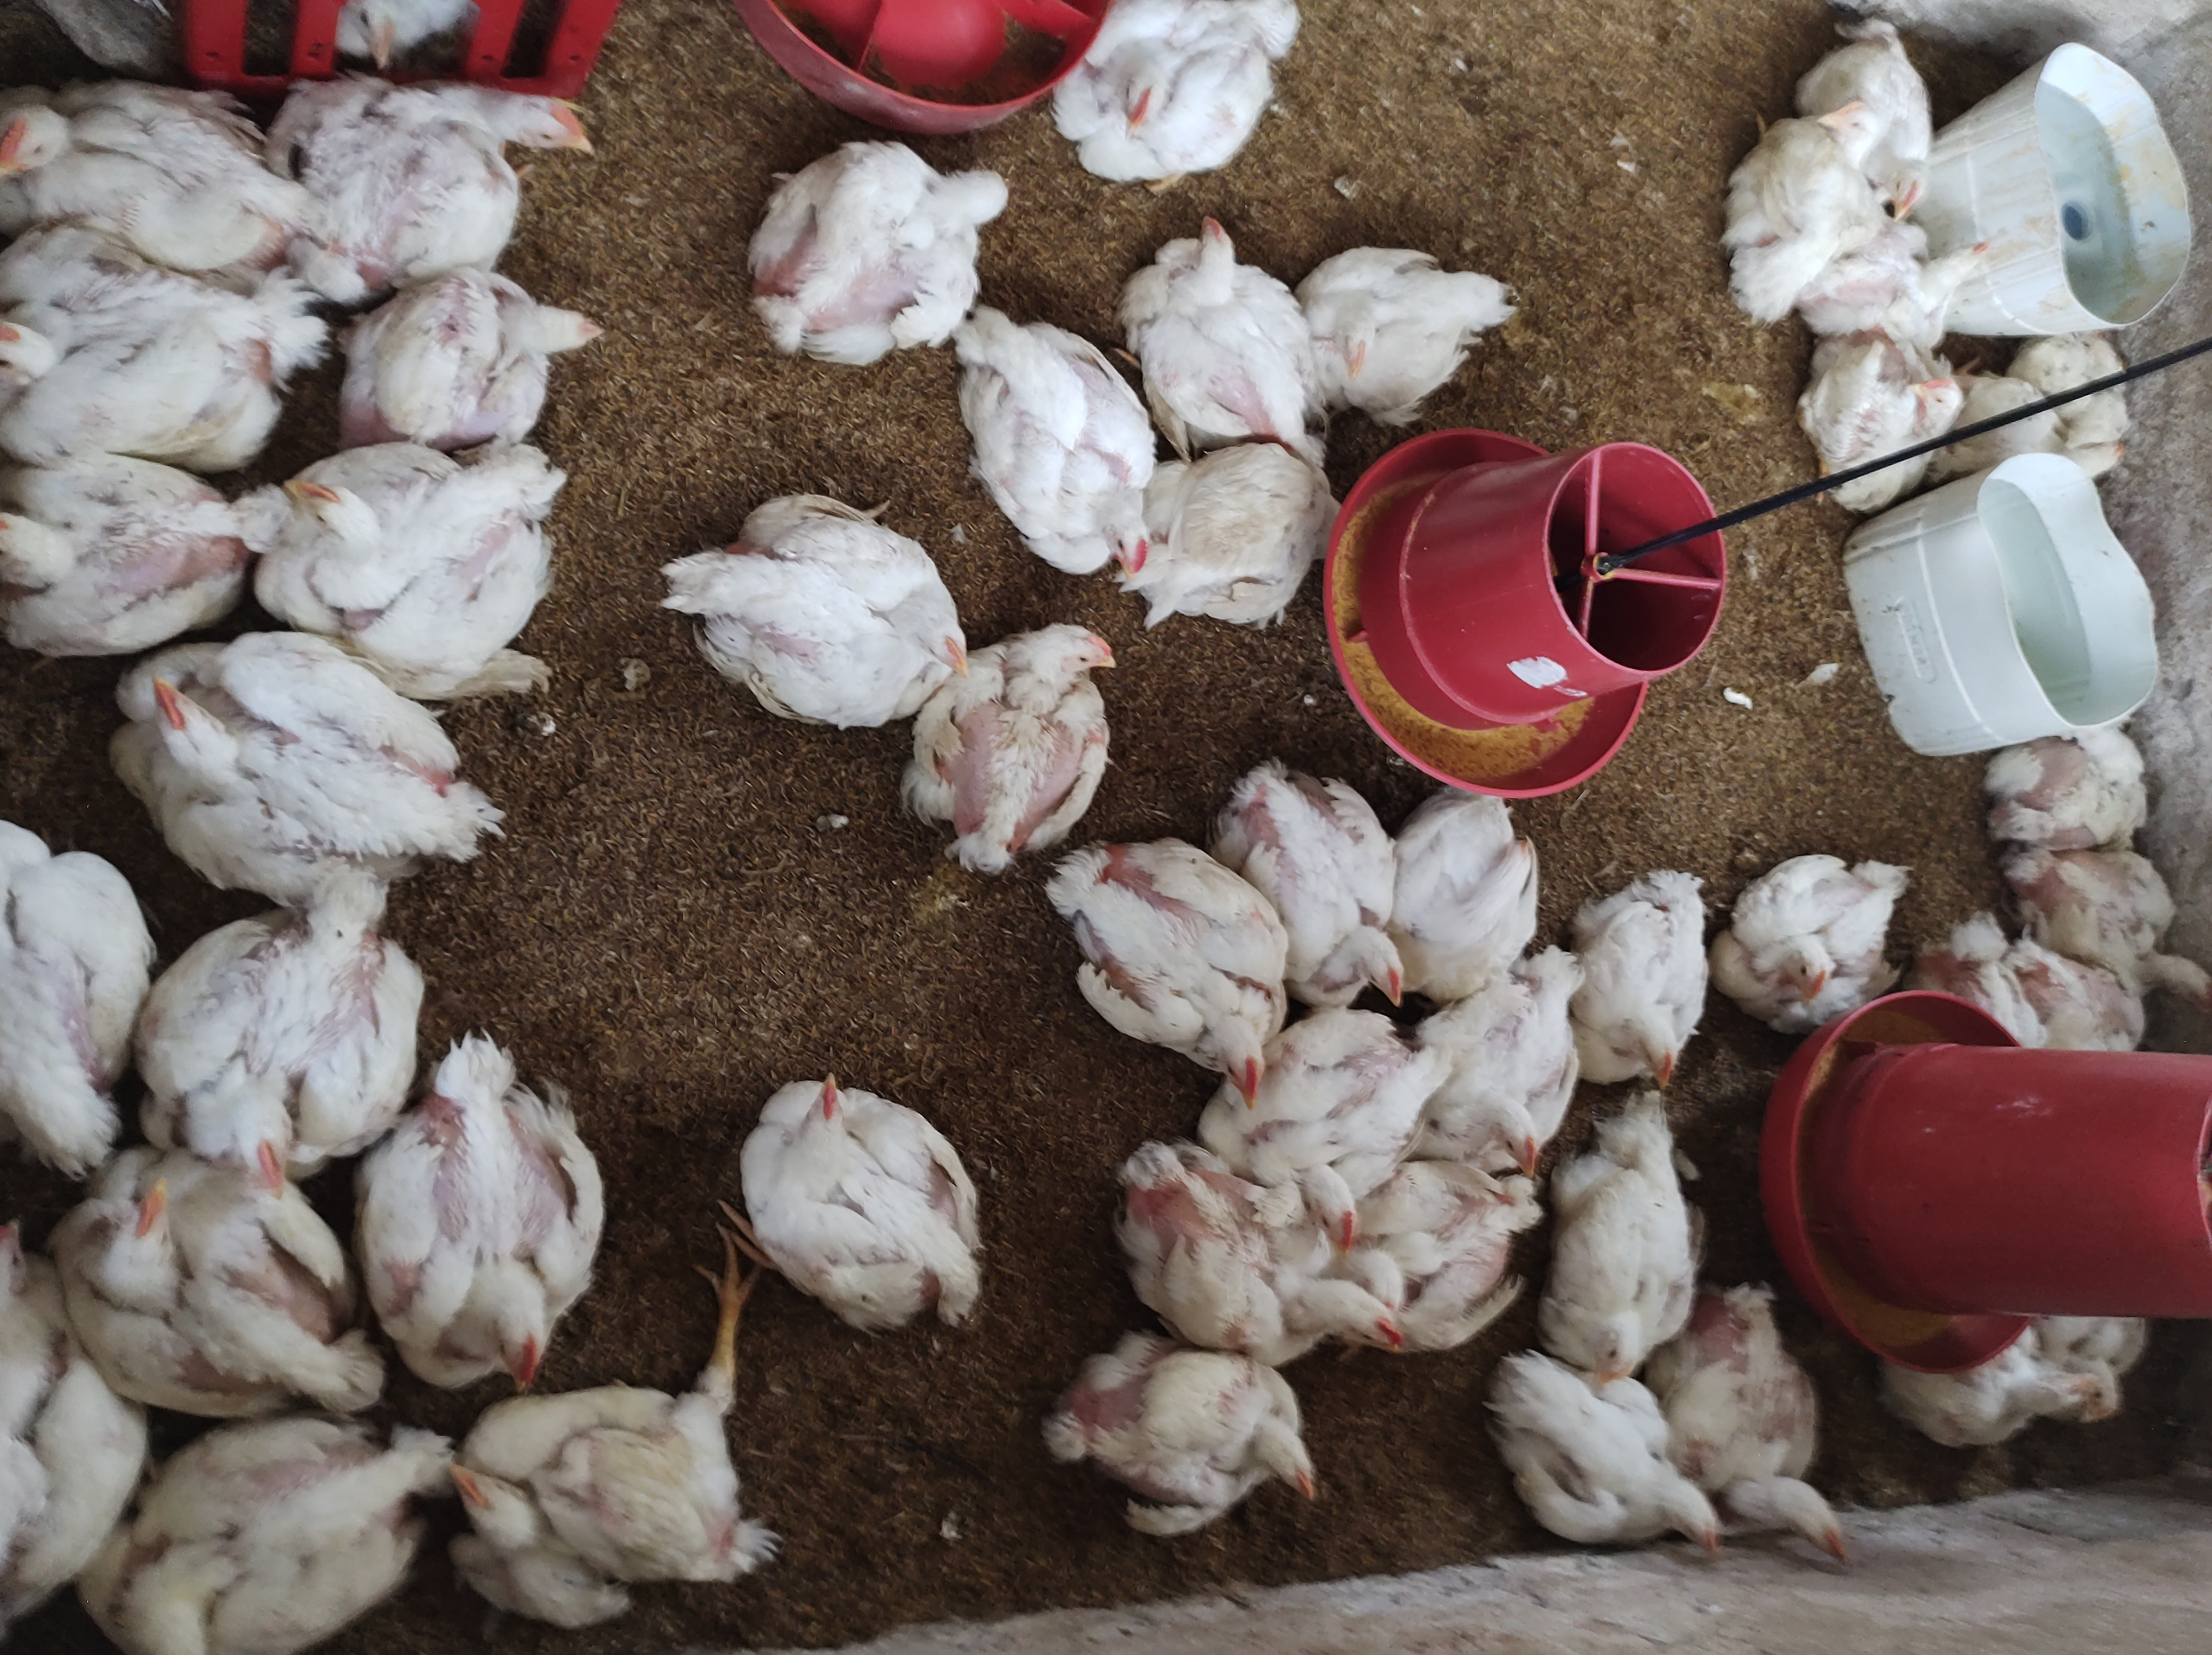Pollos: (117, 654, 510, 911), (101, 1412, 459, 1655), (372, 1034, 598, 1394), (668, 476, 972, 741), (73, 1154, 356, 1420), (148, 913, 417, 1191), (729, 1052, 1000, 1325), (445, 1405, 776, 1622), (254, 447, 565, 676), (1108, 1135, 1393, 1382), (276, 75, 600, 289), (0, 254, 301, 464), (1033, 838, 1282, 1090), (1035, 1332, 1320, 1545), (0, 43, 273, 263), (951, 299, 1153, 584), (0, 798, 146, 1187), (755, 151, 1014, 369), (925, 622, 1156, 864), (0, 435, 230, 669), (1680, 1302, 1883, 1558), (1489, 1349, 1729, 1565), (1026, 0, 1304, 184), (0, 1219, 132, 1594), (1308, 229, 1546, 436), (1223, 1008, 1436, 1236), (1223, 761, 1405, 1022), (1122, 209, 1320, 435), (355, 278, 605, 449), (1384, 1128, 1574, 1349), (1146, 412, 1343, 624), (1548, 1088, 1704, 1354), (1713, 838, 1915, 1038), (2009, 822, 2212, 1020), (1433, 937, 1609, 1161), (1720, 106, 1892, 318), (1890, 1313, 2132, 1455), (1569, 869, 1711, 1097), (1396, 775, 1542, 996), (1939, 913, 2144, 1067), (1776, 339, 1958, 513), (1793, 0, 1944, 209), (1977, 718, 2181, 854), (2019, 323, 2148, 431), (332, 0, 478, 71), (1916, 221, 1995, 308), (2080, 410, 2134, 490)
